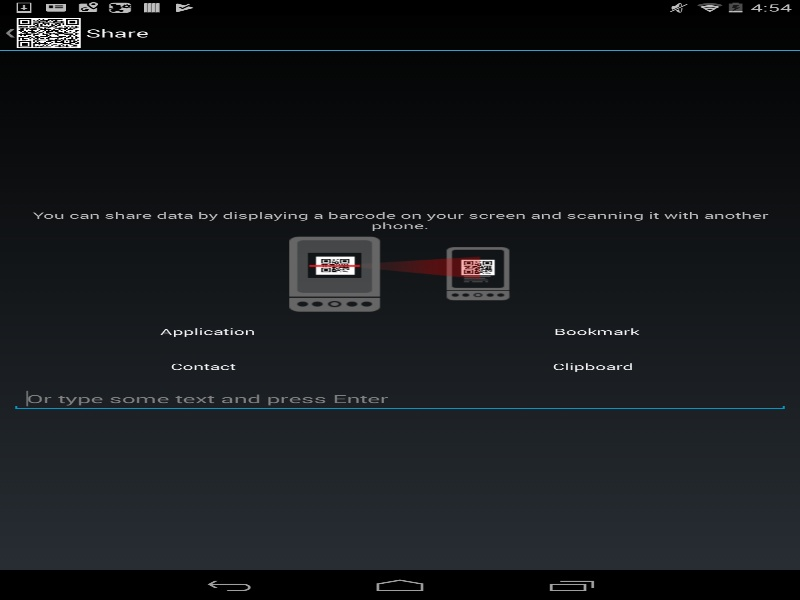Button: (10, 316, 404, 346), (396, 351, 789, 381), (10, 351, 396, 381), (404, 316, 789, 346)
Input: (10, 386, 789, 411)
